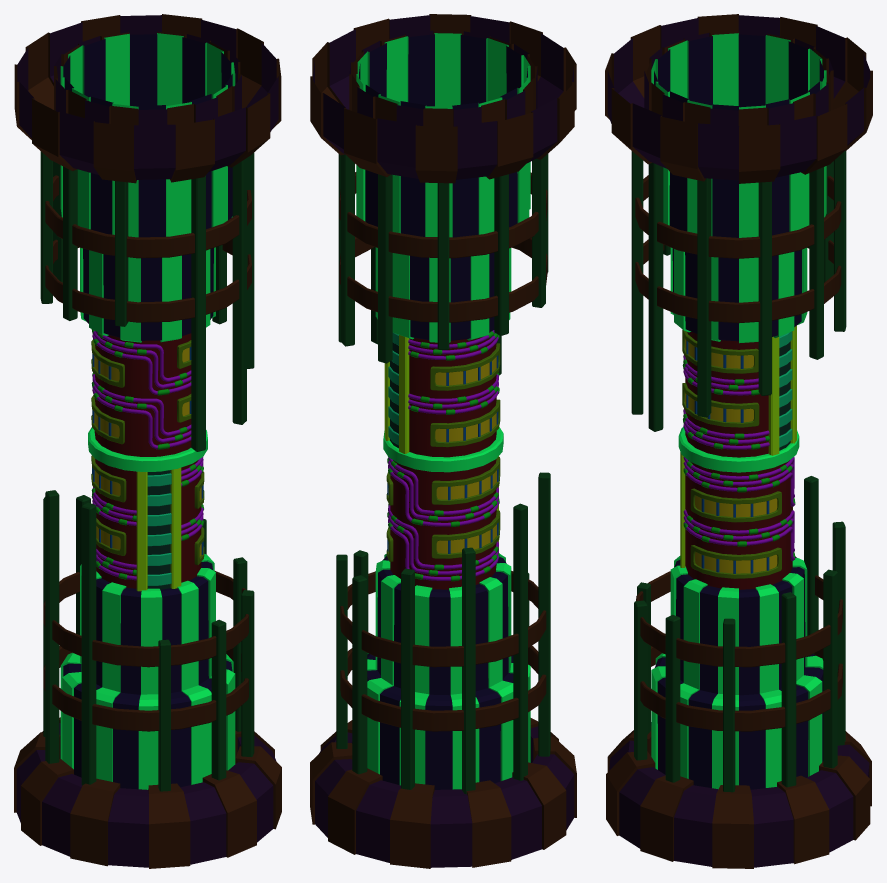
The model's file is OBJ_Reacteur_Noyau.fbx.
3 renders of one model, left to right at view 1: azimuth 30°, elevation 25°; view 2: azimuth 150°, elevation 25°; view 3: azimuth 270°, elevation 25°, orthographic.
Visible parts, largest first — view 1: OBJ_Reacteur_Noyau; view 2: OBJ_Reacteur_Noyau; view 3: OBJ_Reacteur_Noyau.
Boxes of the visible parts, x1,y1,x2,y2 form: OBJ_Reacteur_Noyau: (14, 14, 281, 868); OBJ_Reacteur_Noyau: (310, 14, 576, 868); OBJ_Reacteur_Noyau: (605, 14, 872, 868).
Bounding box in the file's own units: 199 × 607 × 199.
